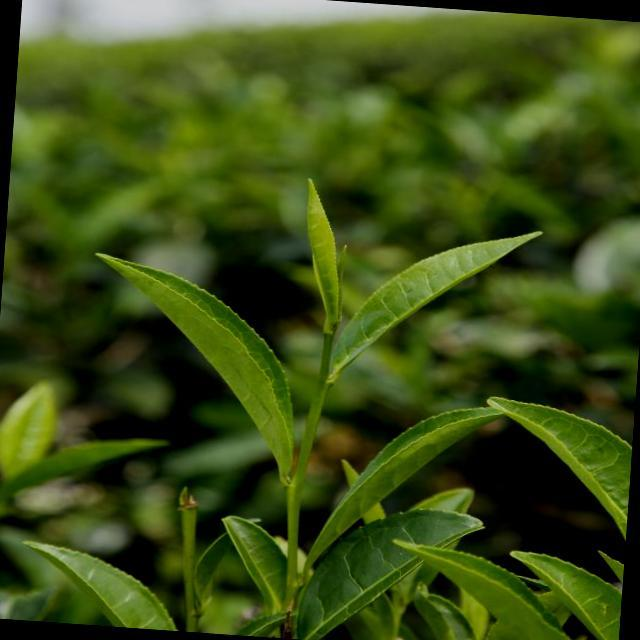Stem: (324, 335, 334, 345)
